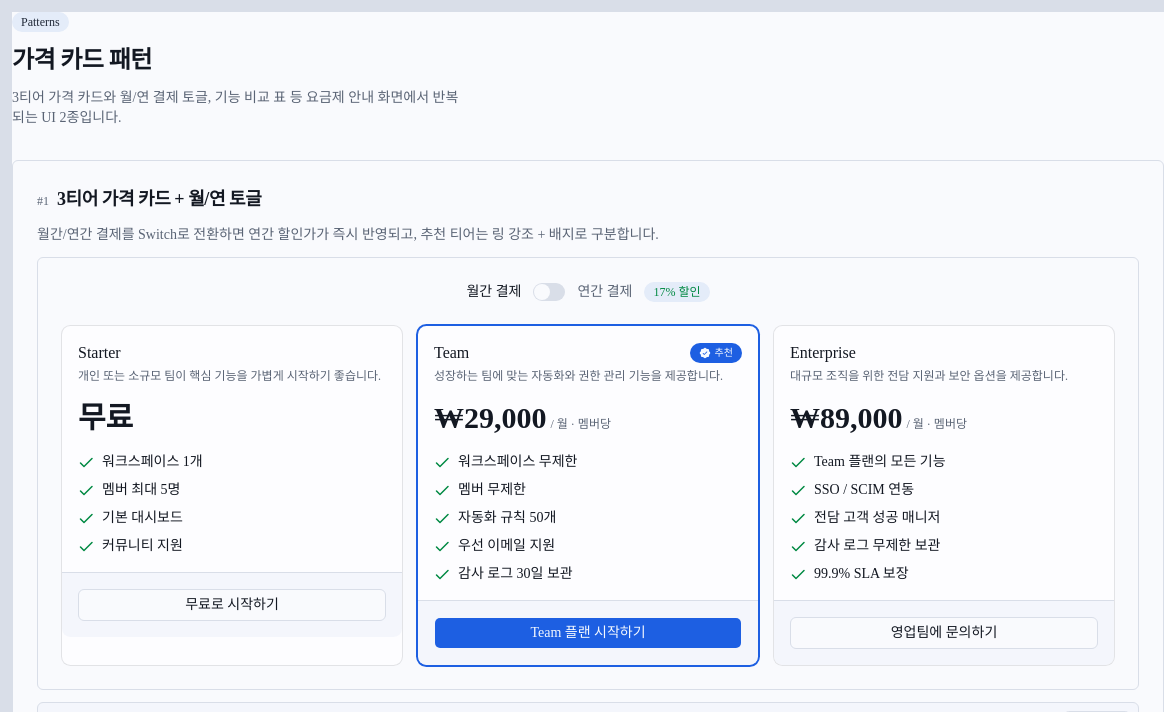
Scenario: PricingPatternsPage › switches to yearly billing and updates the discounted price
Expected: the text "₩29,000" is shown, top-left (434, 400), bottom-right (546, 436)
What coordinates should you click on to do the following:
click the switch
I would click on:
 (550, 292)
Its box is top-left (534, 283), bottom-right (566, 301).
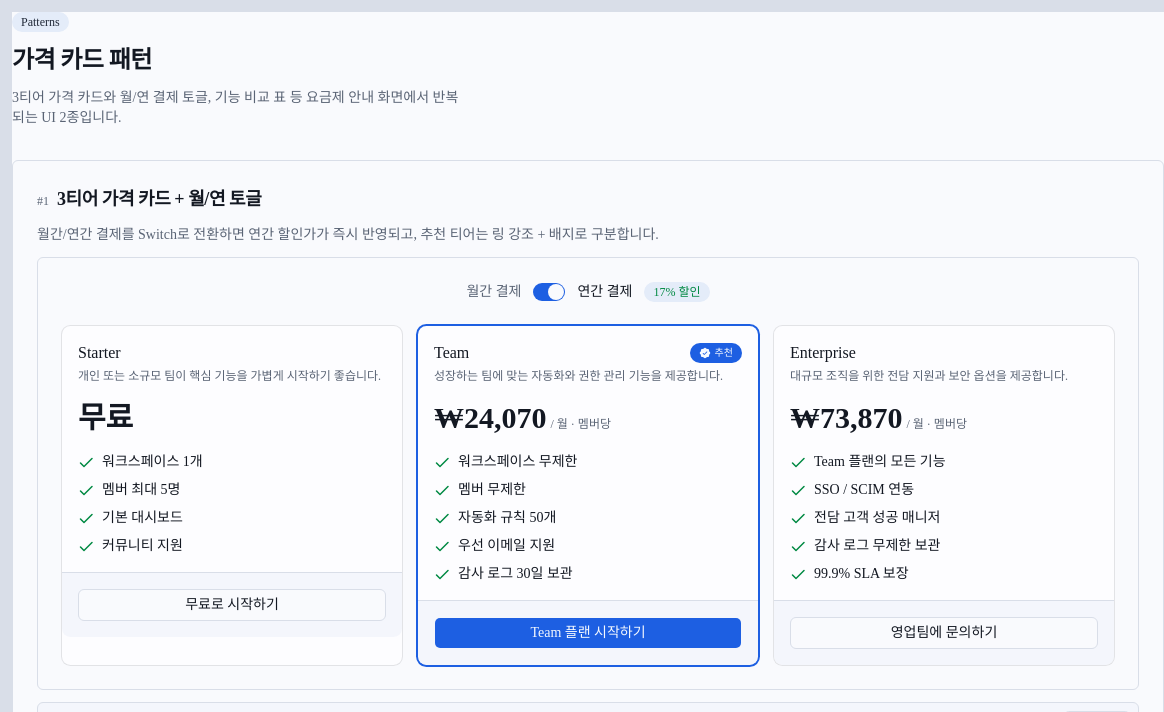
Result: the text "₩24,070" is shown at top-left (434, 400), bottom-right (546, 436)
